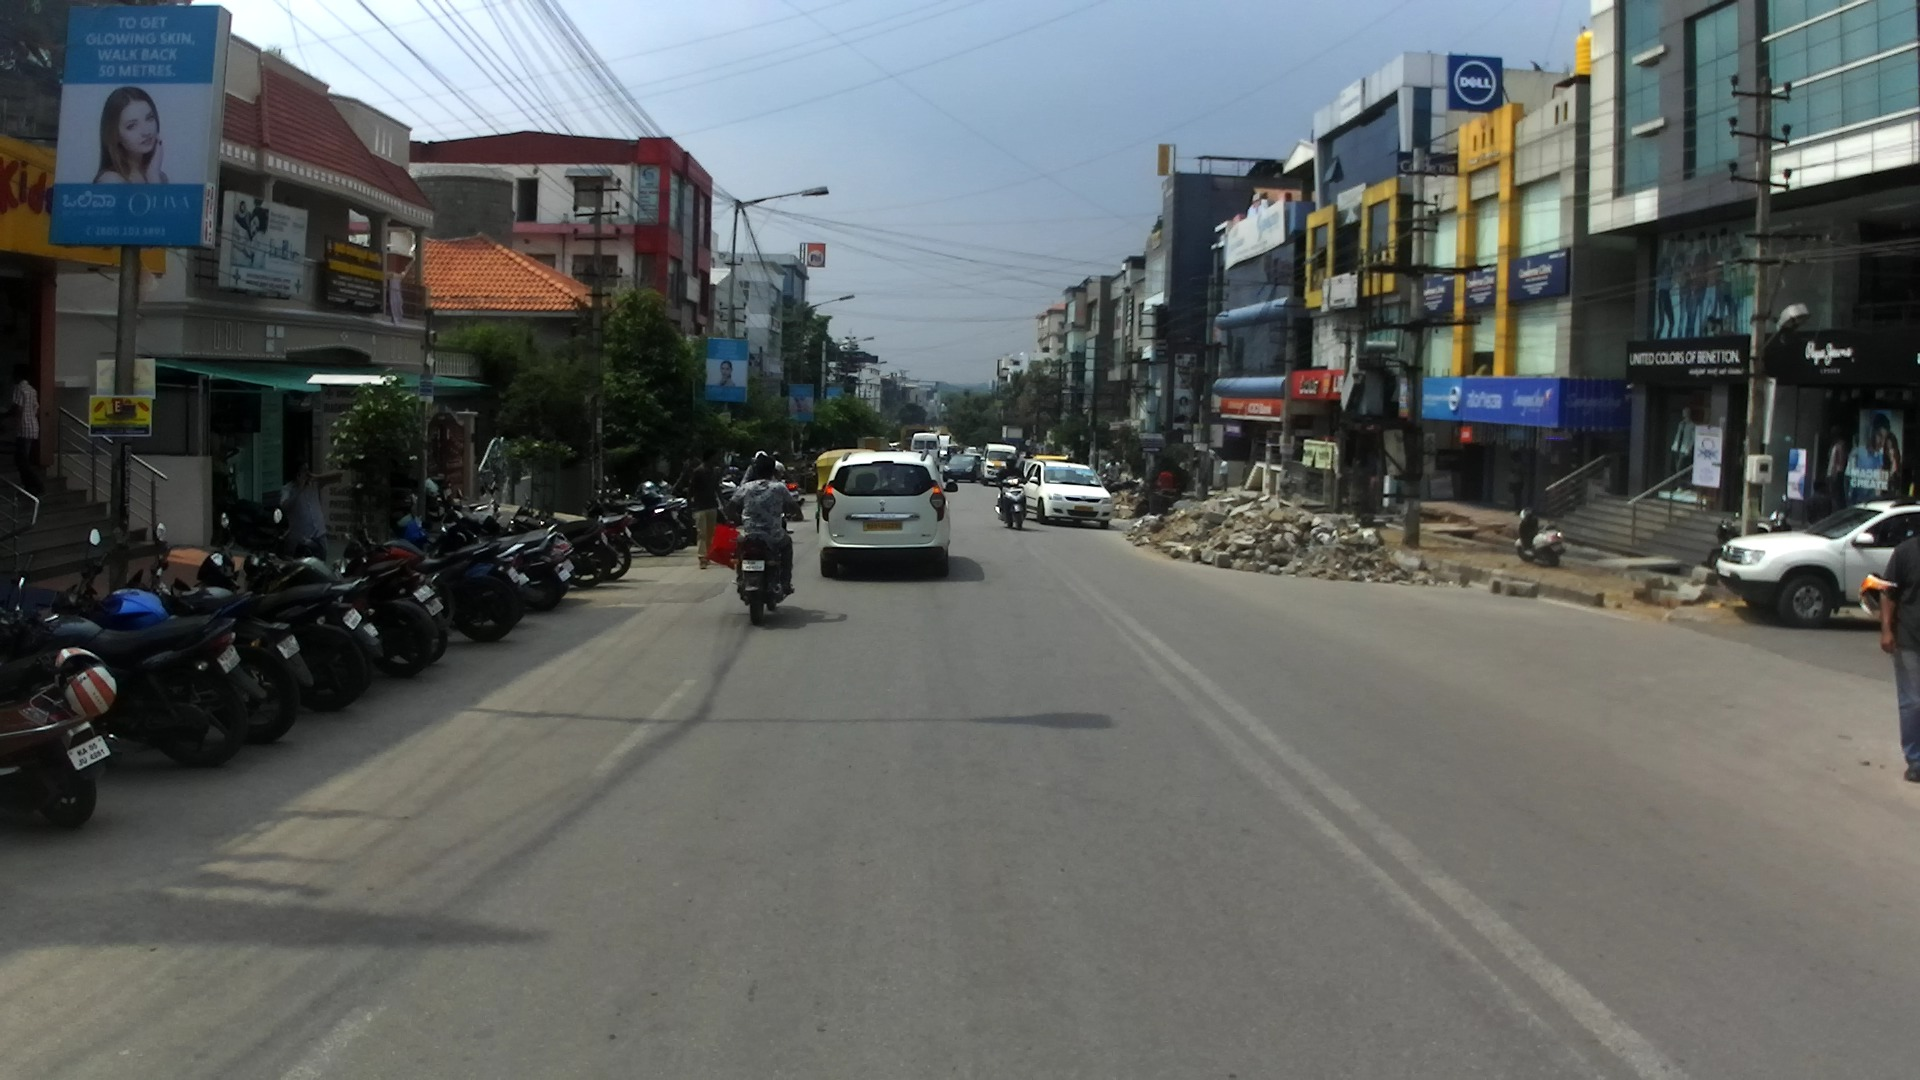autorickshaw: (813, 448, 880, 536), (1031, 453, 1071, 464)
bus: (909, 433, 939, 466)
car: (1722, 491, 1916, 623), (817, 451, 964, 581), (1021, 460, 1114, 528), (943, 453, 983, 484), (1016, 457, 1037, 476), (966, 446, 984, 456)
motorcycle: (47, 528, 315, 742), (1, 551, 266, 766), (125, 524, 380, 714), (199, 514, 384, 701), (245, 509, 436, 676), (338, 483, 522, 641), (1, 629, 123, 830), (295, 528, 448, 664), (396, 494, 527, 625), (436, 491, 570, 609), (451, 491, 575, 599), (486, 499, 618, 589), (516, 491, 637, 580), (729, 507, 806, 626), (584, 482, 685, 554), (217, 472, 296, 556), (605, 476, 692, 546), (395, 476, 476, 547), (638, 481, 702, 543), (1513, 504, 1566, 568), (660, 480, 736, 515), (1708, 507, 1746, 571), (996, 476, 1027, 530), (1754, 493, 1791, 534), (778, 467, 805, 521), (1106, 475, 1139, 493), (721, 466, 744, 489)
person: (1875, 532, 1920, 779), (275, 462, 344, 566), (7, 366, 50, 493), (684, 447, 726, 568), (1509, 451, 1525, 514), (1217, 454, 1230, 492), (1157, 466, 1174, 491), (1117, 457, 1132, 483), (1022, 449, 1033, 460)
rider: (728, 456, 803, 594), (993, 454, 1026, 515), (737, 450, 770, 490), (1104, 455, 1123, 486), (770, 451, 785, 485)
truck: (981, 442, 1020, 486), (855, 436, 890, 454), (938, 434, 953, 463)
vehicle fallback: (899, 425, 933, 454), (1130, 499, 1151, 516), (945, 445, 963, 463), (888, 442, 903, 452)
